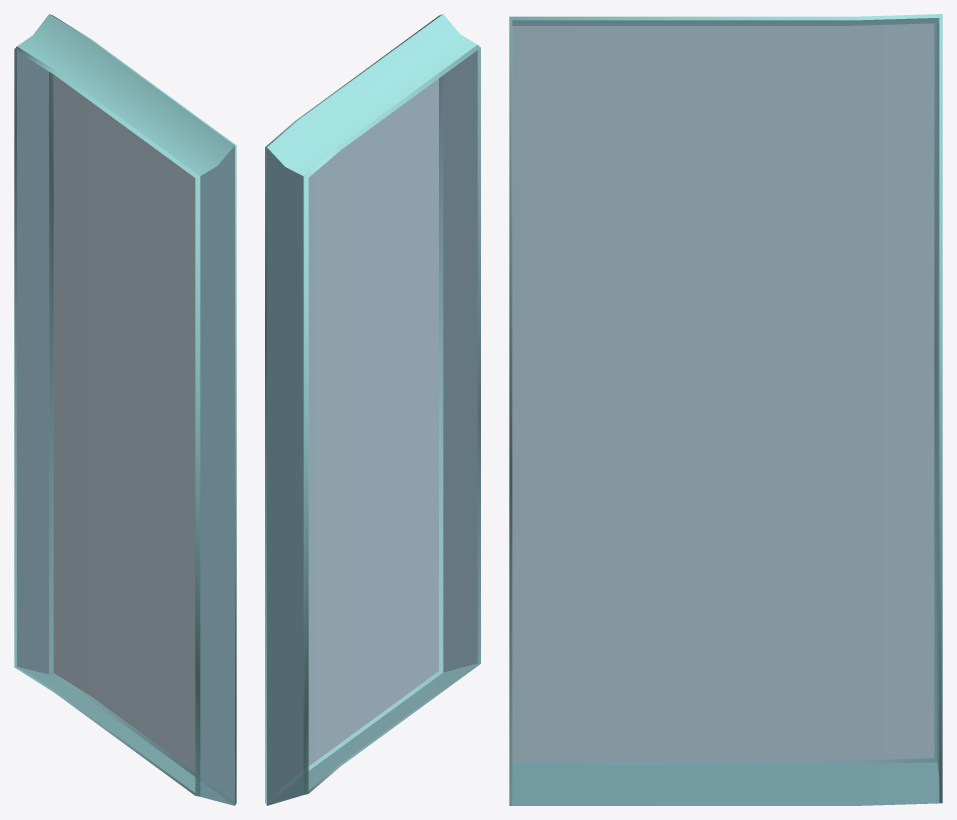
The model's file is Chatterbox-v5-DOOR.fbx.
The picture shows the model from 3 angles, left to right: view 1: azimuth 30°, elevation 25°; view 2: azimuth 150°, elevation 25°; view 3: azimuth 270°, elevation 25°; orthographic projection. The views are drawn at different scales.
Visible parts, largest first — view 1: Door; view 2: Door; view 3: Door.
Boxes of the visible parts, box(x1,y1,x2,y2) form: Door: box(14, 14, 236, 805); Door: box(265, 14, 480, 805); Door: box(509, 14, 942, 805).
Bounding box in the file's own units: 17.45 × 239 × 119.
